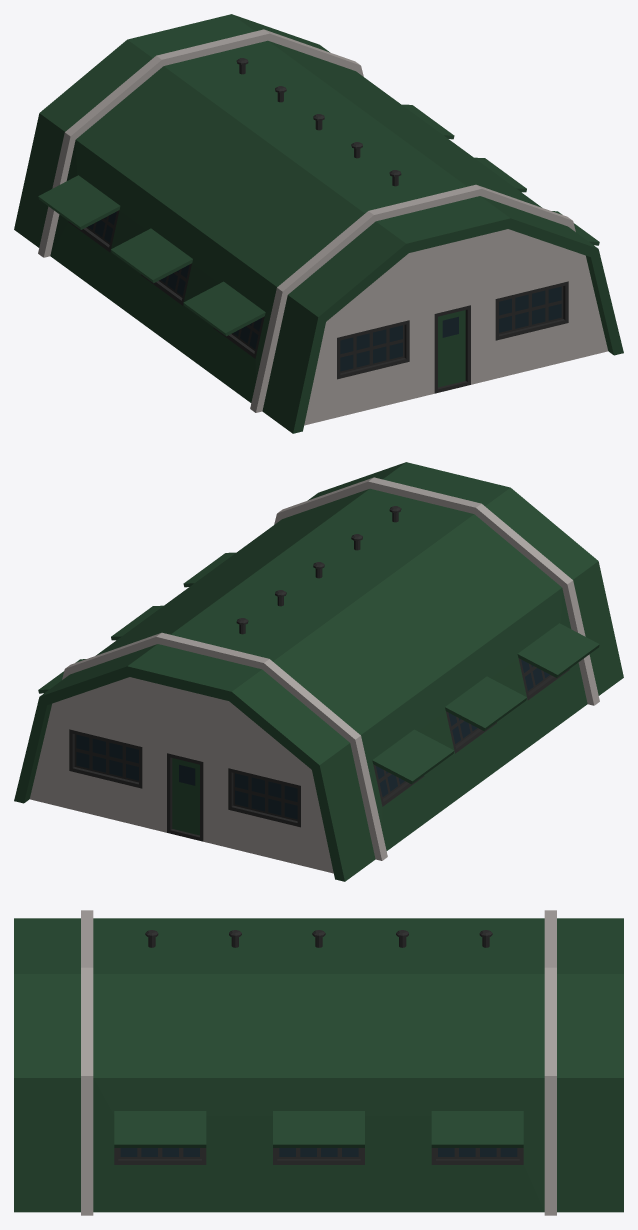
File: military-barracks.glb
3 views of the same model, one above another, from view 1: azimuth 30°, elevation 25°; view 2: azimuth 150°, elevation 25°; view 3: azimuth 270°, elevation 25° (orthographic). The views are drawn at different scales.
Parts seen in each view (by area): view 1: military-barracks; view 2: military-barracks; view 3: military-barracks.
Boxes of the visible parts, box(x1,y1,x2,y2) form: military-barracks: box(14, 14, 623, 433); military-barracks: box(14, 462, 623, 881); military-barracks: box(14, 910, 623, 1215).
Size of the model in its own units: 11.31 by 5.08 by 14.6.
1 material, 1 textured.
